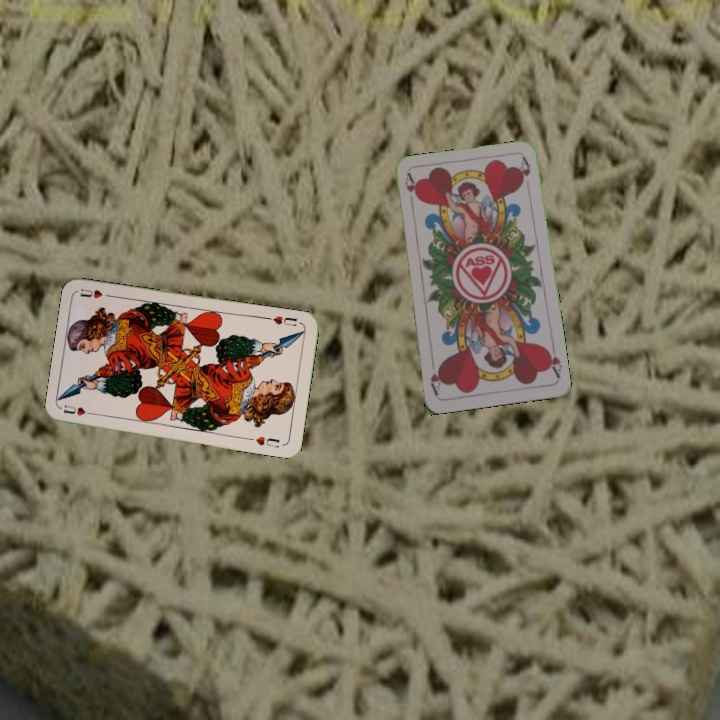HA: (542, 341, 564, 381), (400, 170, 419, 201)
HU: (59, 401, 99, 418), (263, 312, 299, 329)
